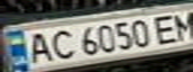0: (130, 17, 157, 48), (93, 21, 118, 54)
5: (112, 19, 136, 51)
6: (75, 24, 100, 56)
A: (21, 29, 54, 64)
C: (45, 27, 78, 61)
E: (148, 11, 184, 44)
M: (166, 9, 193, 42)
